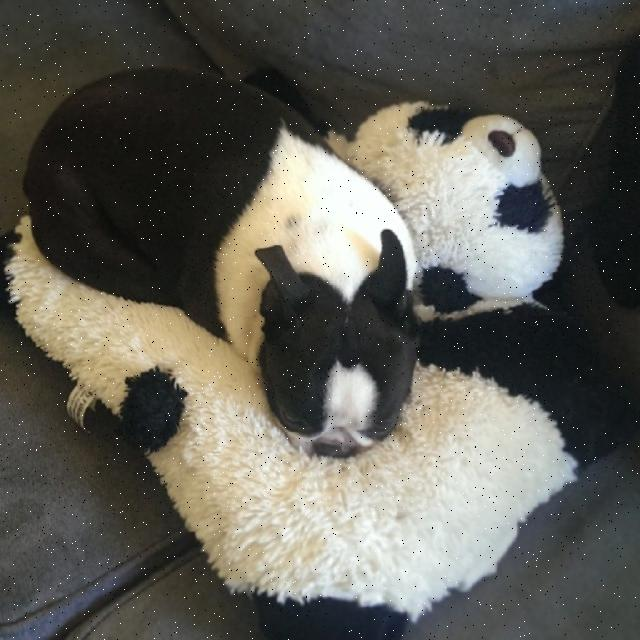panda: (0, 61, 580, 639)
